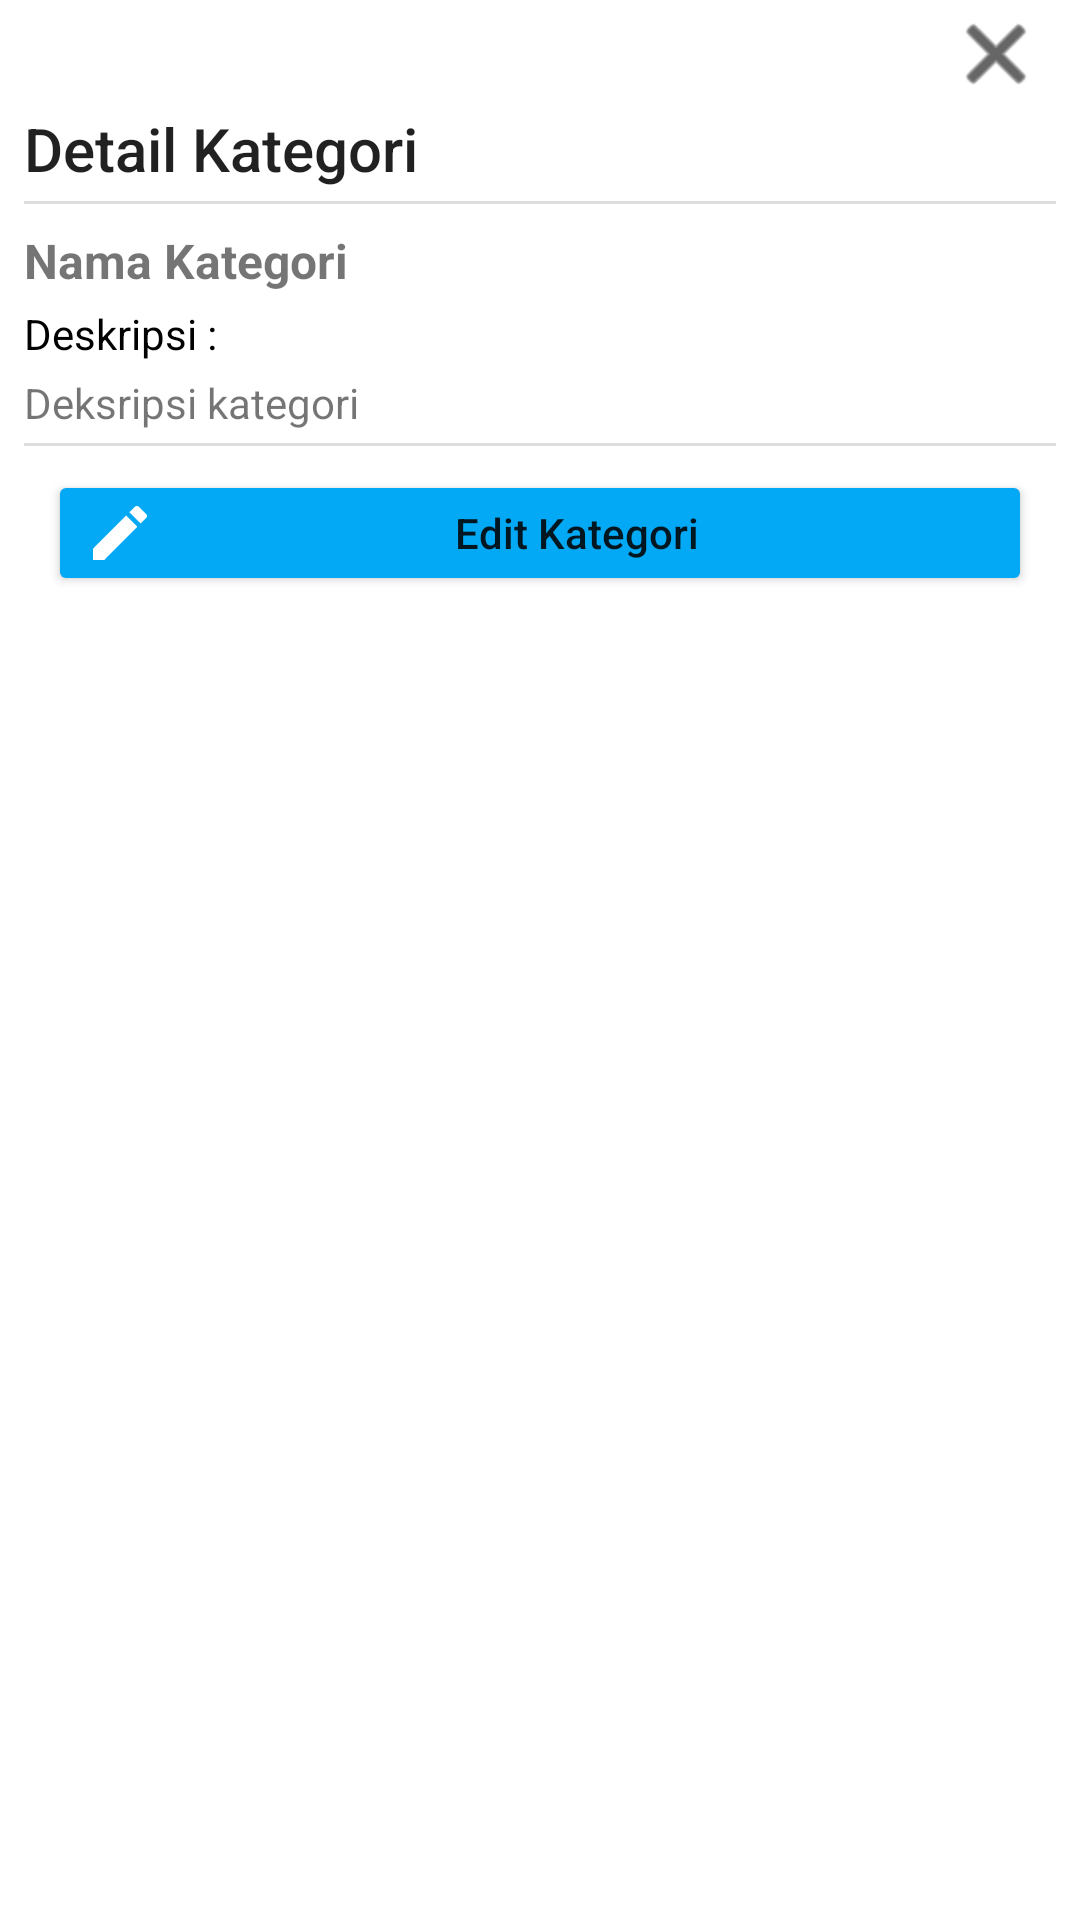

Icon click points for this 1080x1920 phone screenshot, format [x,y]:
close clear cancel: [996,54]
